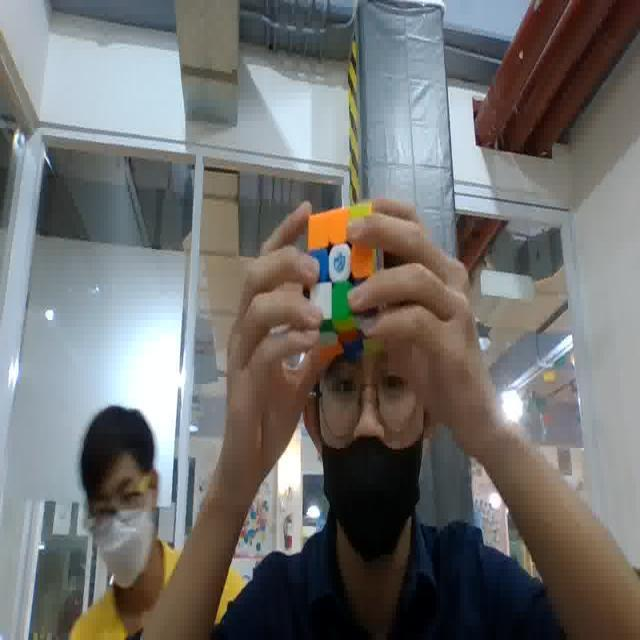Rub: (306, 196, 384, 355)
